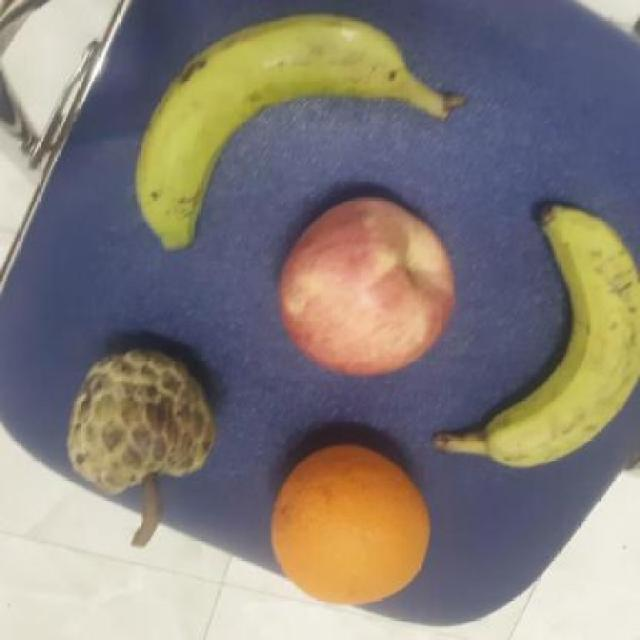apple: (273, 190, 475, 382)
banana: (134, 10, 468, 252), (429, 198, 640, 475)
oren: (260, 432, 440, 610)
sugar apple: (52, 349, 239, 503)
